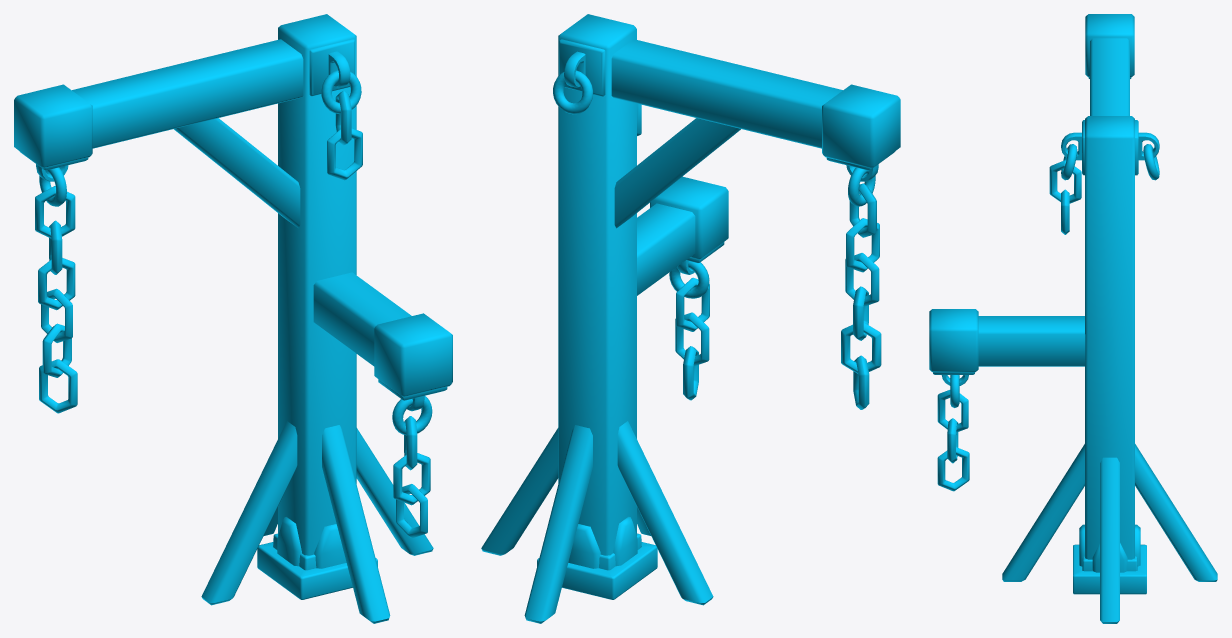
File: BigPillar.FBX
3 renders of one model, left to right at view 1: azimuth 30°, elevation 25°; view 2: azimuth 150°, elevation 25°; view 3: azimuth 270°, elevation 25°, orthographic. The views are drawn at different scales.
Parts seen in each view (by area): view 1: BigPillar; view 2: BigPillar; view 3: BigPillar.
Boxes of the visible parts, x1,y1,x2,y2 form: BigPillar: (14,14,452,623); BigPillar: (481,14,900,623); BigPillar: (929,14,1217,623).
Bounding box in the file's own units: 3.86 × 5 × 2.88.
